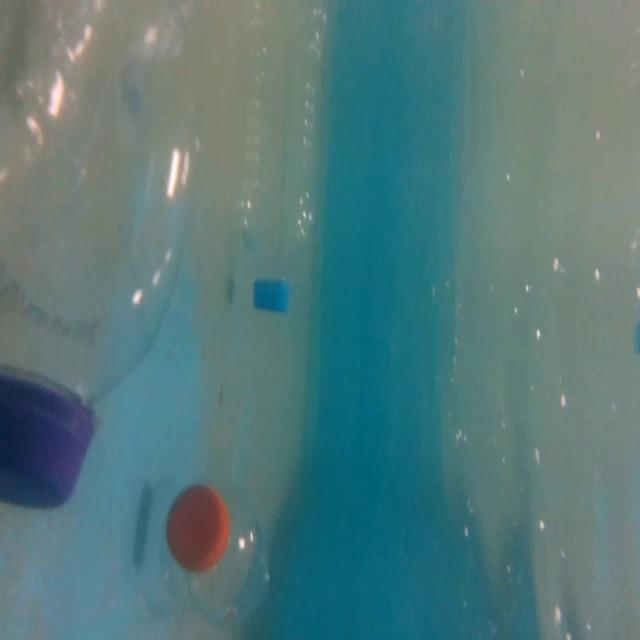plastic bottle: (0, 0, 178, 501), (226, 0, 327, 317), (159, 480, 286, 626)
